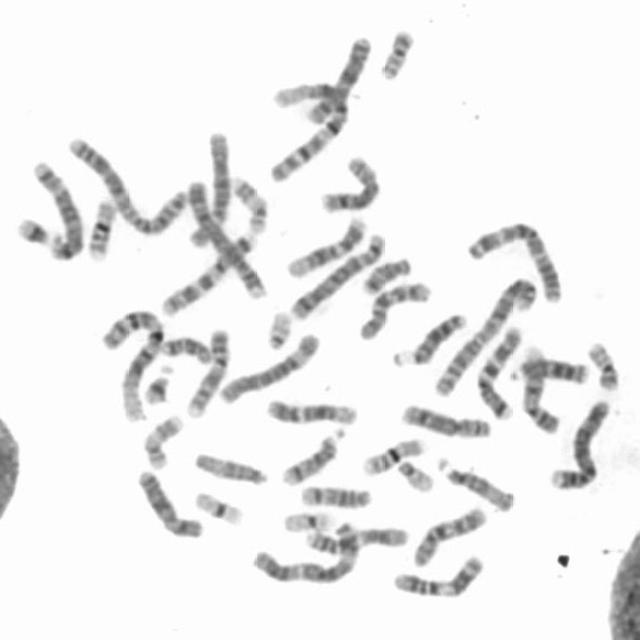A1: (264, 73, 353, 184), (98, 301, 168, 426)
A2: (62, 128, 194, 238), (430, 272, 541, 398)
A3: (463, 214, 568, 306), (246, 515, 363, 586)
B4: (181, 174, 269, 301), (546, 392, 614, 492)
B5: (284, 227, 388, 321), (21, 153, 86, 262)
C10: (352, 274, 434, 342), (406, 501, 489, 568)
C11: (387, 548, 487, 599), (299, 520, 410, 554)
C12: (281, 210, 370, 279), (261, 392, 361, 427)
C6: (213, 326, 324, 404), (183, 123, 234, 250)
C7: (156, 226, 260, 316), (469, 321, 524, 421)
C8: (396, 397, 495, 440), (316, 150, 382, 214)
C9: (182, 322, 234, 419), (516, 340, 562, 435)
D13: (388, 306, 468, 370), (504, 353, 591, 386)
D14: (278, 423, 348, 488), (294, 478, 373, 511)
D15: (432, 451, 518, 513), (188, 446, 270, 488)
E16: (357, 431, 428, 476), (82, 192, 119, 262)
E17: (137, 408, 186, 471), (226, 170, 272, 236)
E18: (356, 250, 414, 296), (156, 330, 214, 365)
F19: (190, 485, 248, 527), (278, 504, 335, 534)
F20: (374, 22, 417, 81), (582, 334, 623, 393)
G21: (11, 210, 58, 251), (139, 360, 176, 408)
G22: (392, 454, 438, 494), (260, 303, 296, 352)
X: (301, 29, 375, 126), (132, 464, 207, 541)
